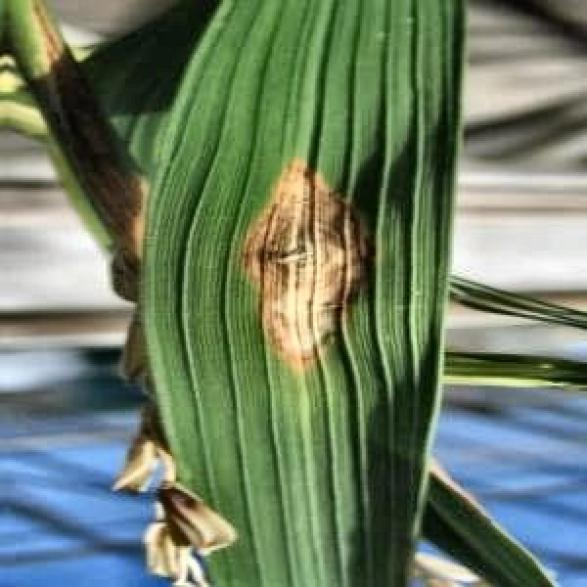Leaf_smut: (227, 157, 368, 372)
